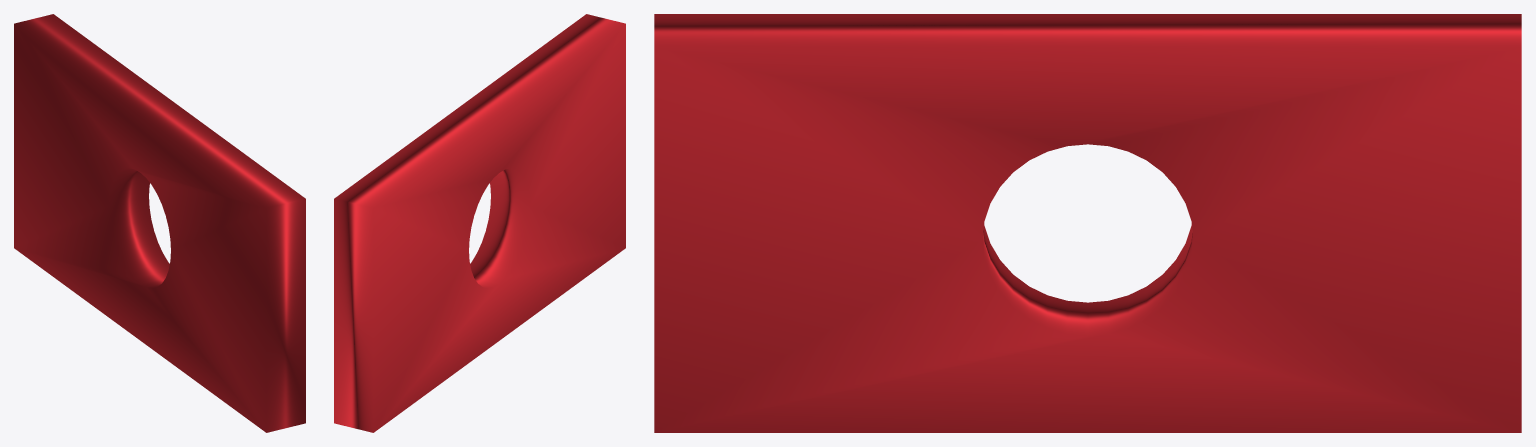
The model's file is obstask203.fbx.
The picture shows the model from 3 angles, left to right: view 1: azimuth 30°, elevation 25°; view 2: azimuth 150°, elevation 25°; view 3: azimuth 270°, elevation 25°; orthographic projection. The views are drawn at different scales.
Visible parts, largest first — view 1: Cube.003; view 2: Cube.003; view 3: Cube.003.
Boxes of the visible parts, x1,y1,x2,y2 form: Cube.003: (14,14,305,432); Cube.003: (334,14,625,432); Cube.003: (654,14,1521,432).
Size of the model in its own units: 74.14 by 403 by 822.
